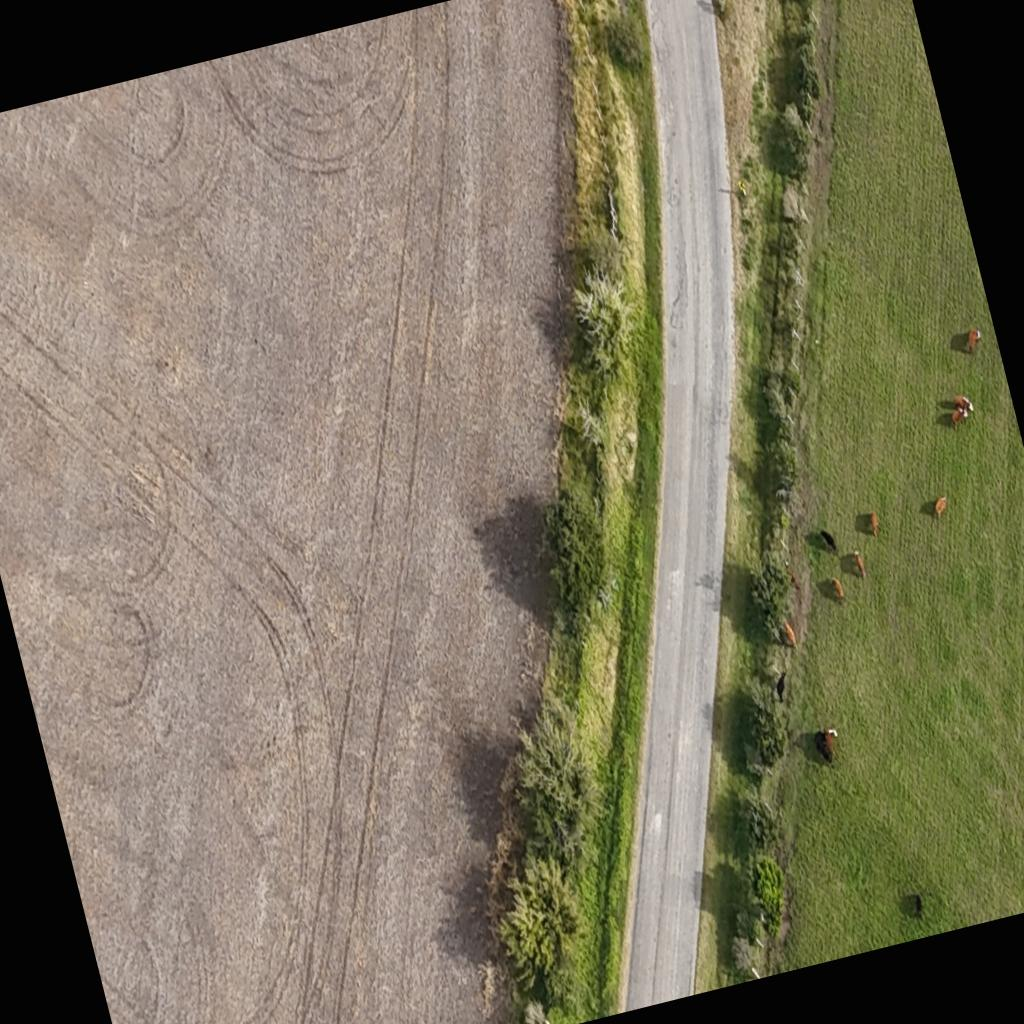cow: (924, 494, 955, 525), (811, 728, 832, 766), (822, 720, 842, 758), (816, 528, 838, 560), (778, 618, 798, 652), (772, 671, 793, 703), (963, 326, 985, 353), (828, 574, 846, 602), (954, 392, 974, 416), (853, 550, 868, 580), (866, 509, 882, 537), (948, 408, 970, 428), (786, 566, 801, 593), (910, 891, 926, 916)
